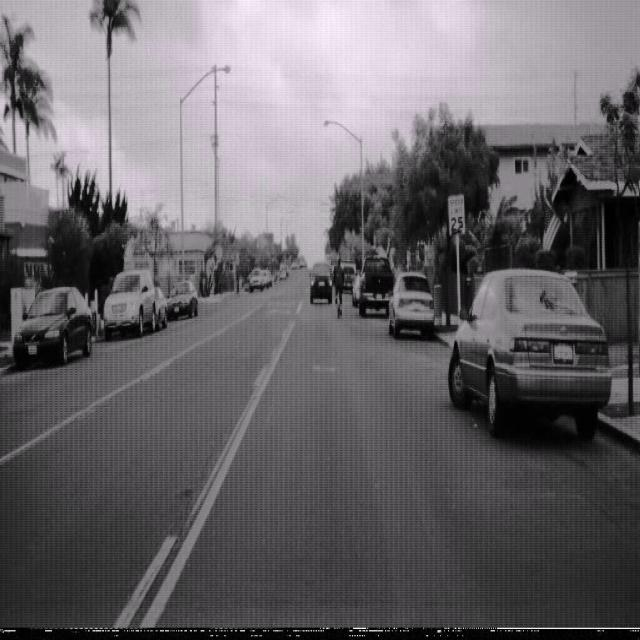speedLimit25: (447, 191, 466, 237)
